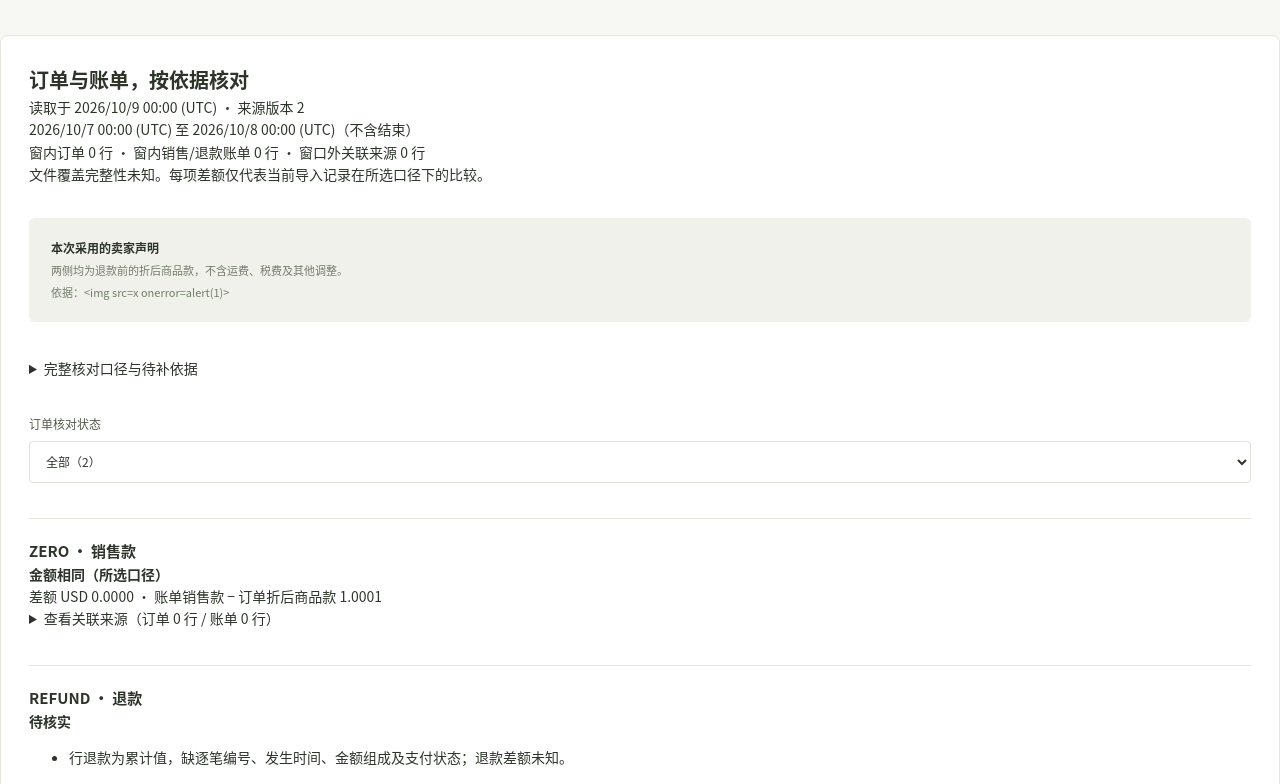
Test: filters unknown refunds, preserves zero decimals and escapes declarations
Select "待核实（1）" in the dropdown labelled "订单核对状态" at (640, 462), box x1=29 y1=440 x2=1251 y2=482
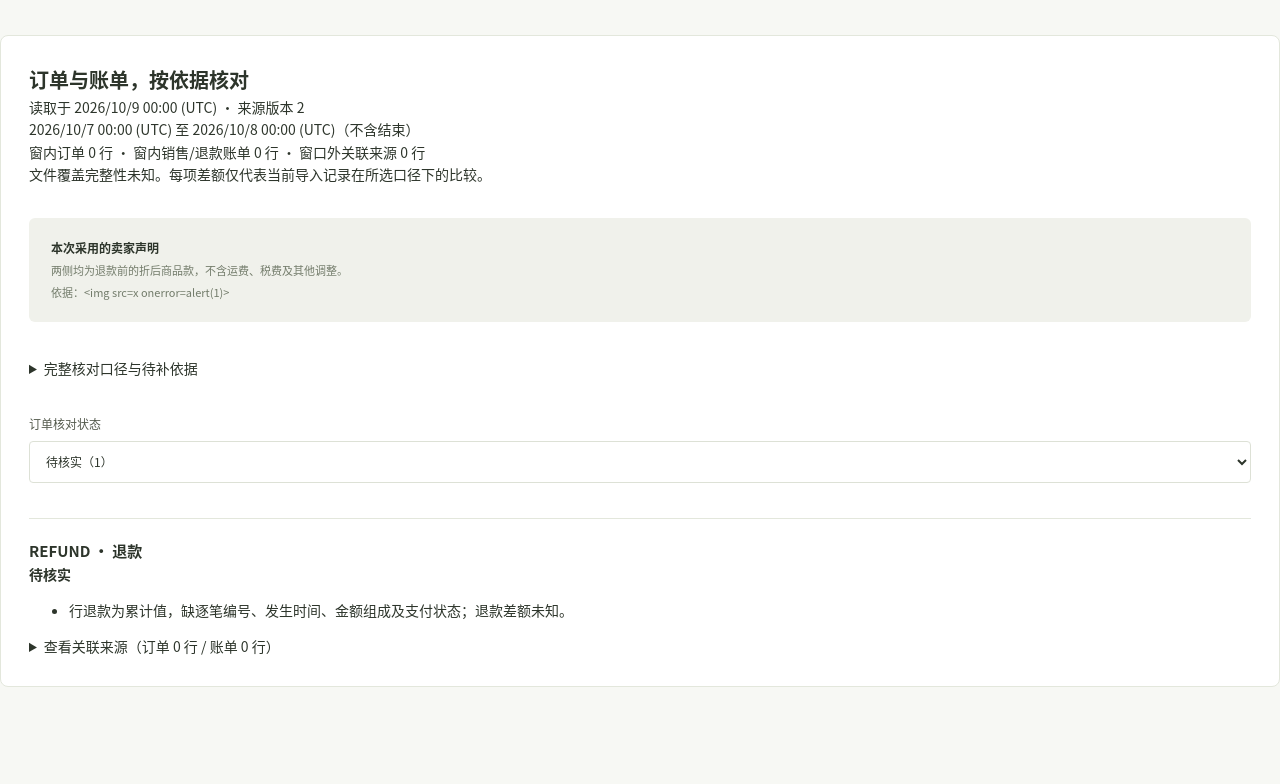
Check: the element that starts with "REFUND · 退款" shows "退款差额未知", box x1=69 y1=600 x2=573 y2=620
Check: the text "差额 USD" is gone
